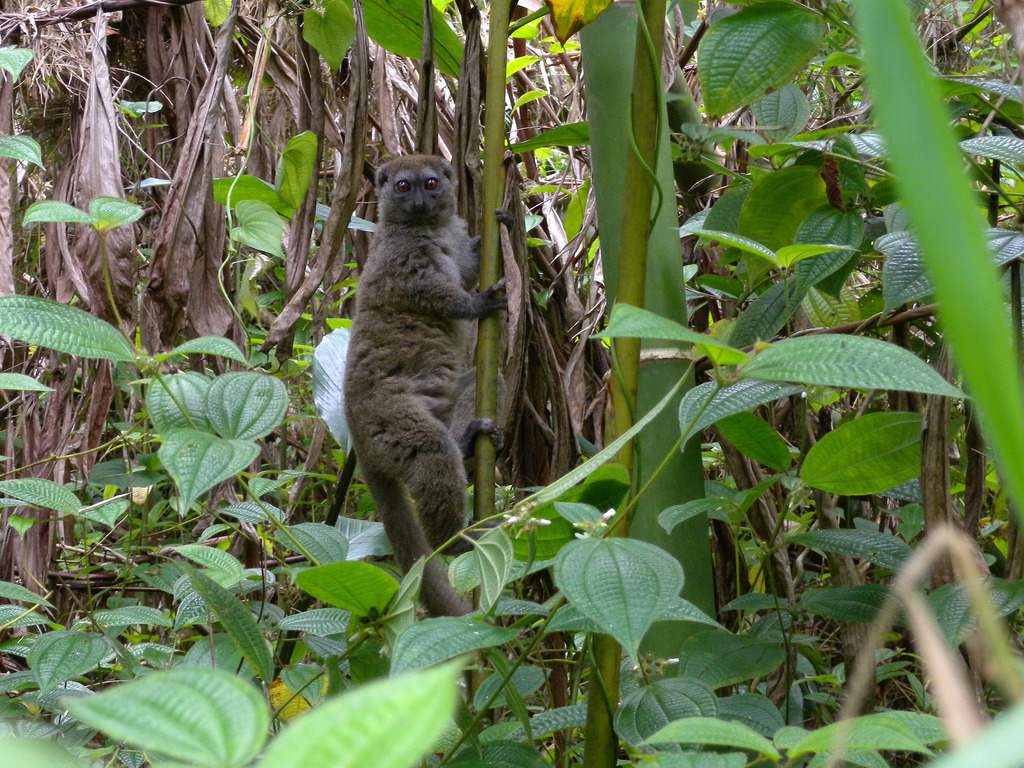Animal: (349, 156, 525, 617)
